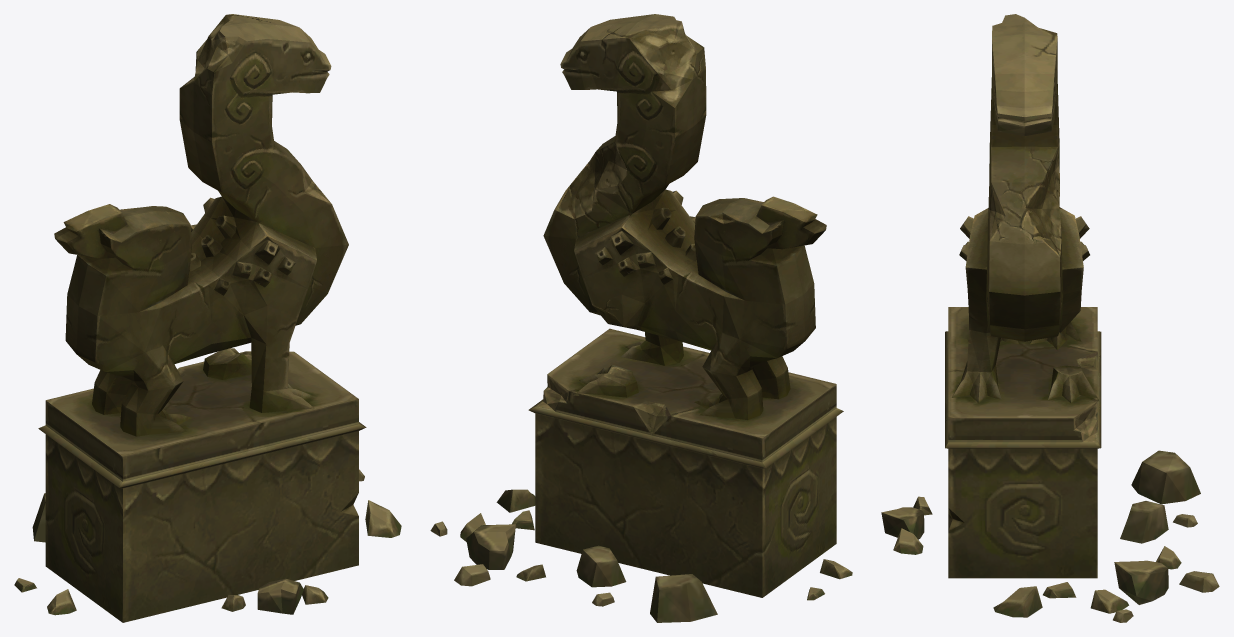
The model's file is water_guardian_damaged_01.fbx.
3 renders of one model, left to right at view 1: azimuth 30°, elevation 25°; view 2: azimuth 150°, elevation 25°; view 3: azimuth 270°, elevation 25°, orthographic. The views are drawn at different scales.
Parts seen in each view (by area): view 1: obj0.405; view 2: obj0.405; view 3: obj0.405.
Boxes of the visible parts, left/top/right/bottom form: obj0.405: left=14, top=14, right=401, bottom=622; obj0.405: left=430, top=14, right=852, bottom=622; obj0.405: left=881, top=14, right=1219, bottom=622.
Size of the model in its own units: 4.37 by 5.97 by 3.52.
